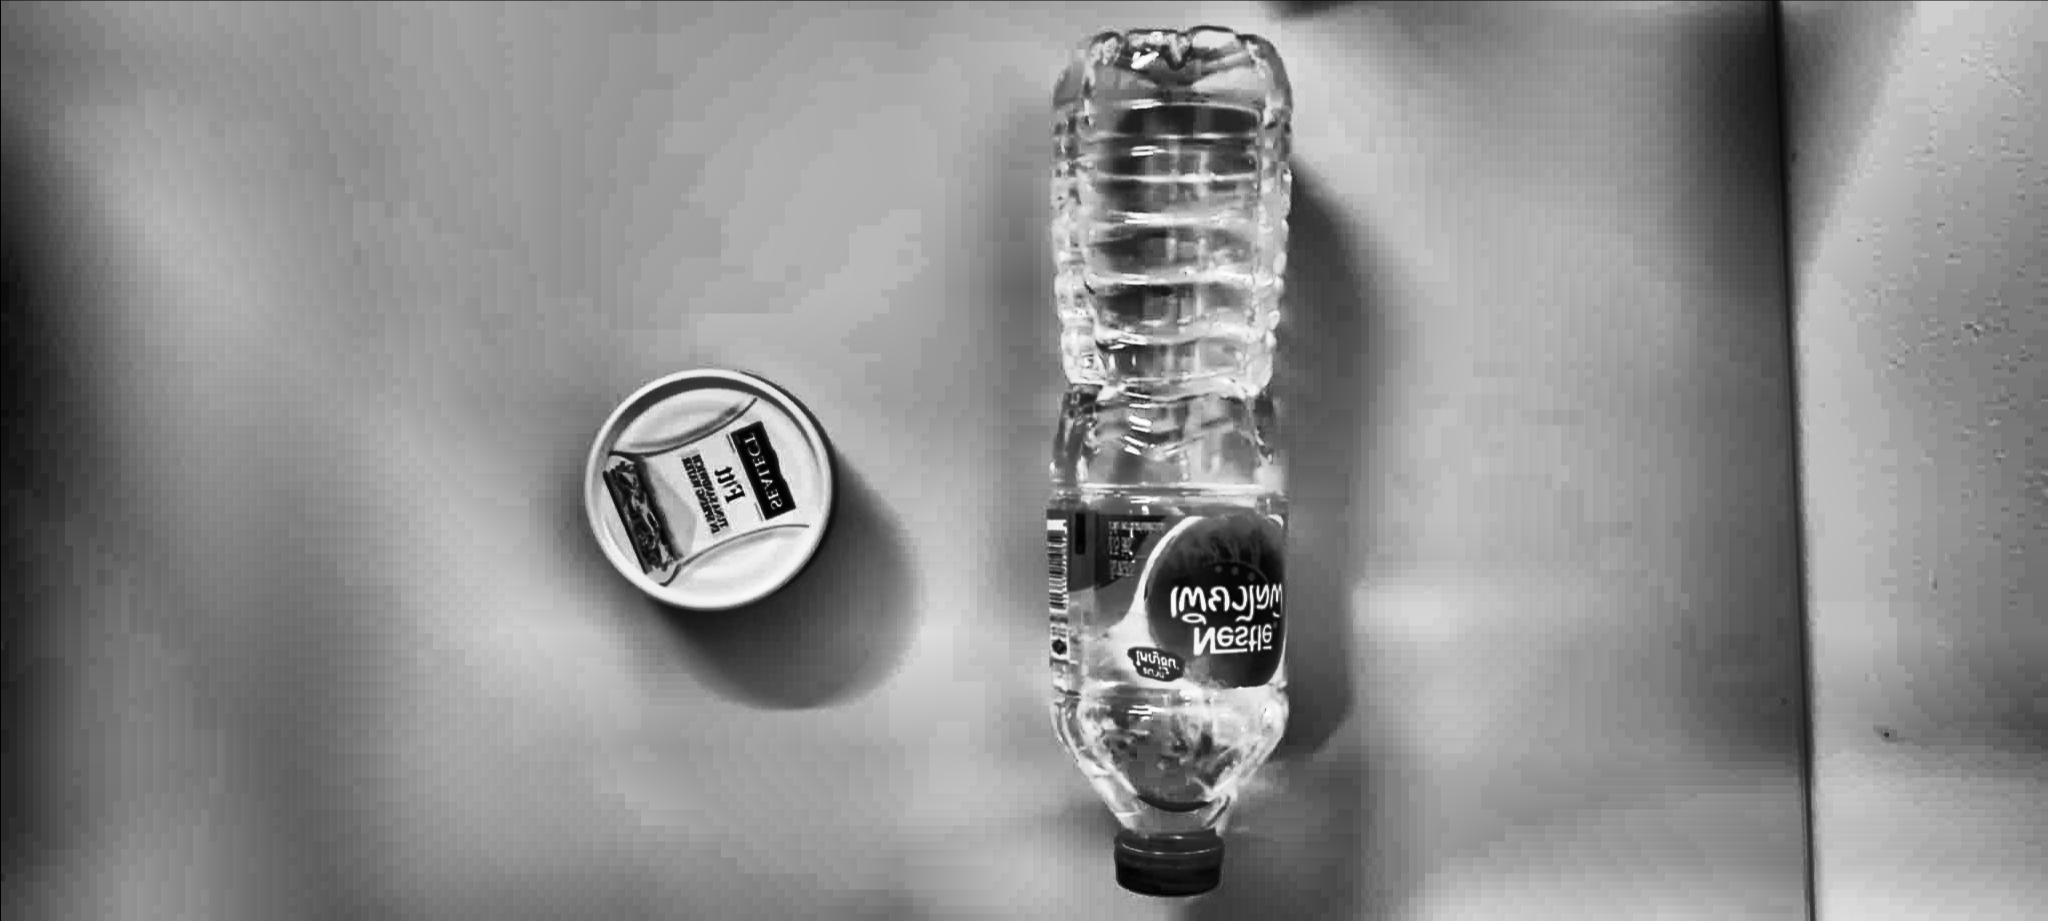can: (558, 328, 876, 644)
waterbottle: (1024, 16, 1362, 910)
